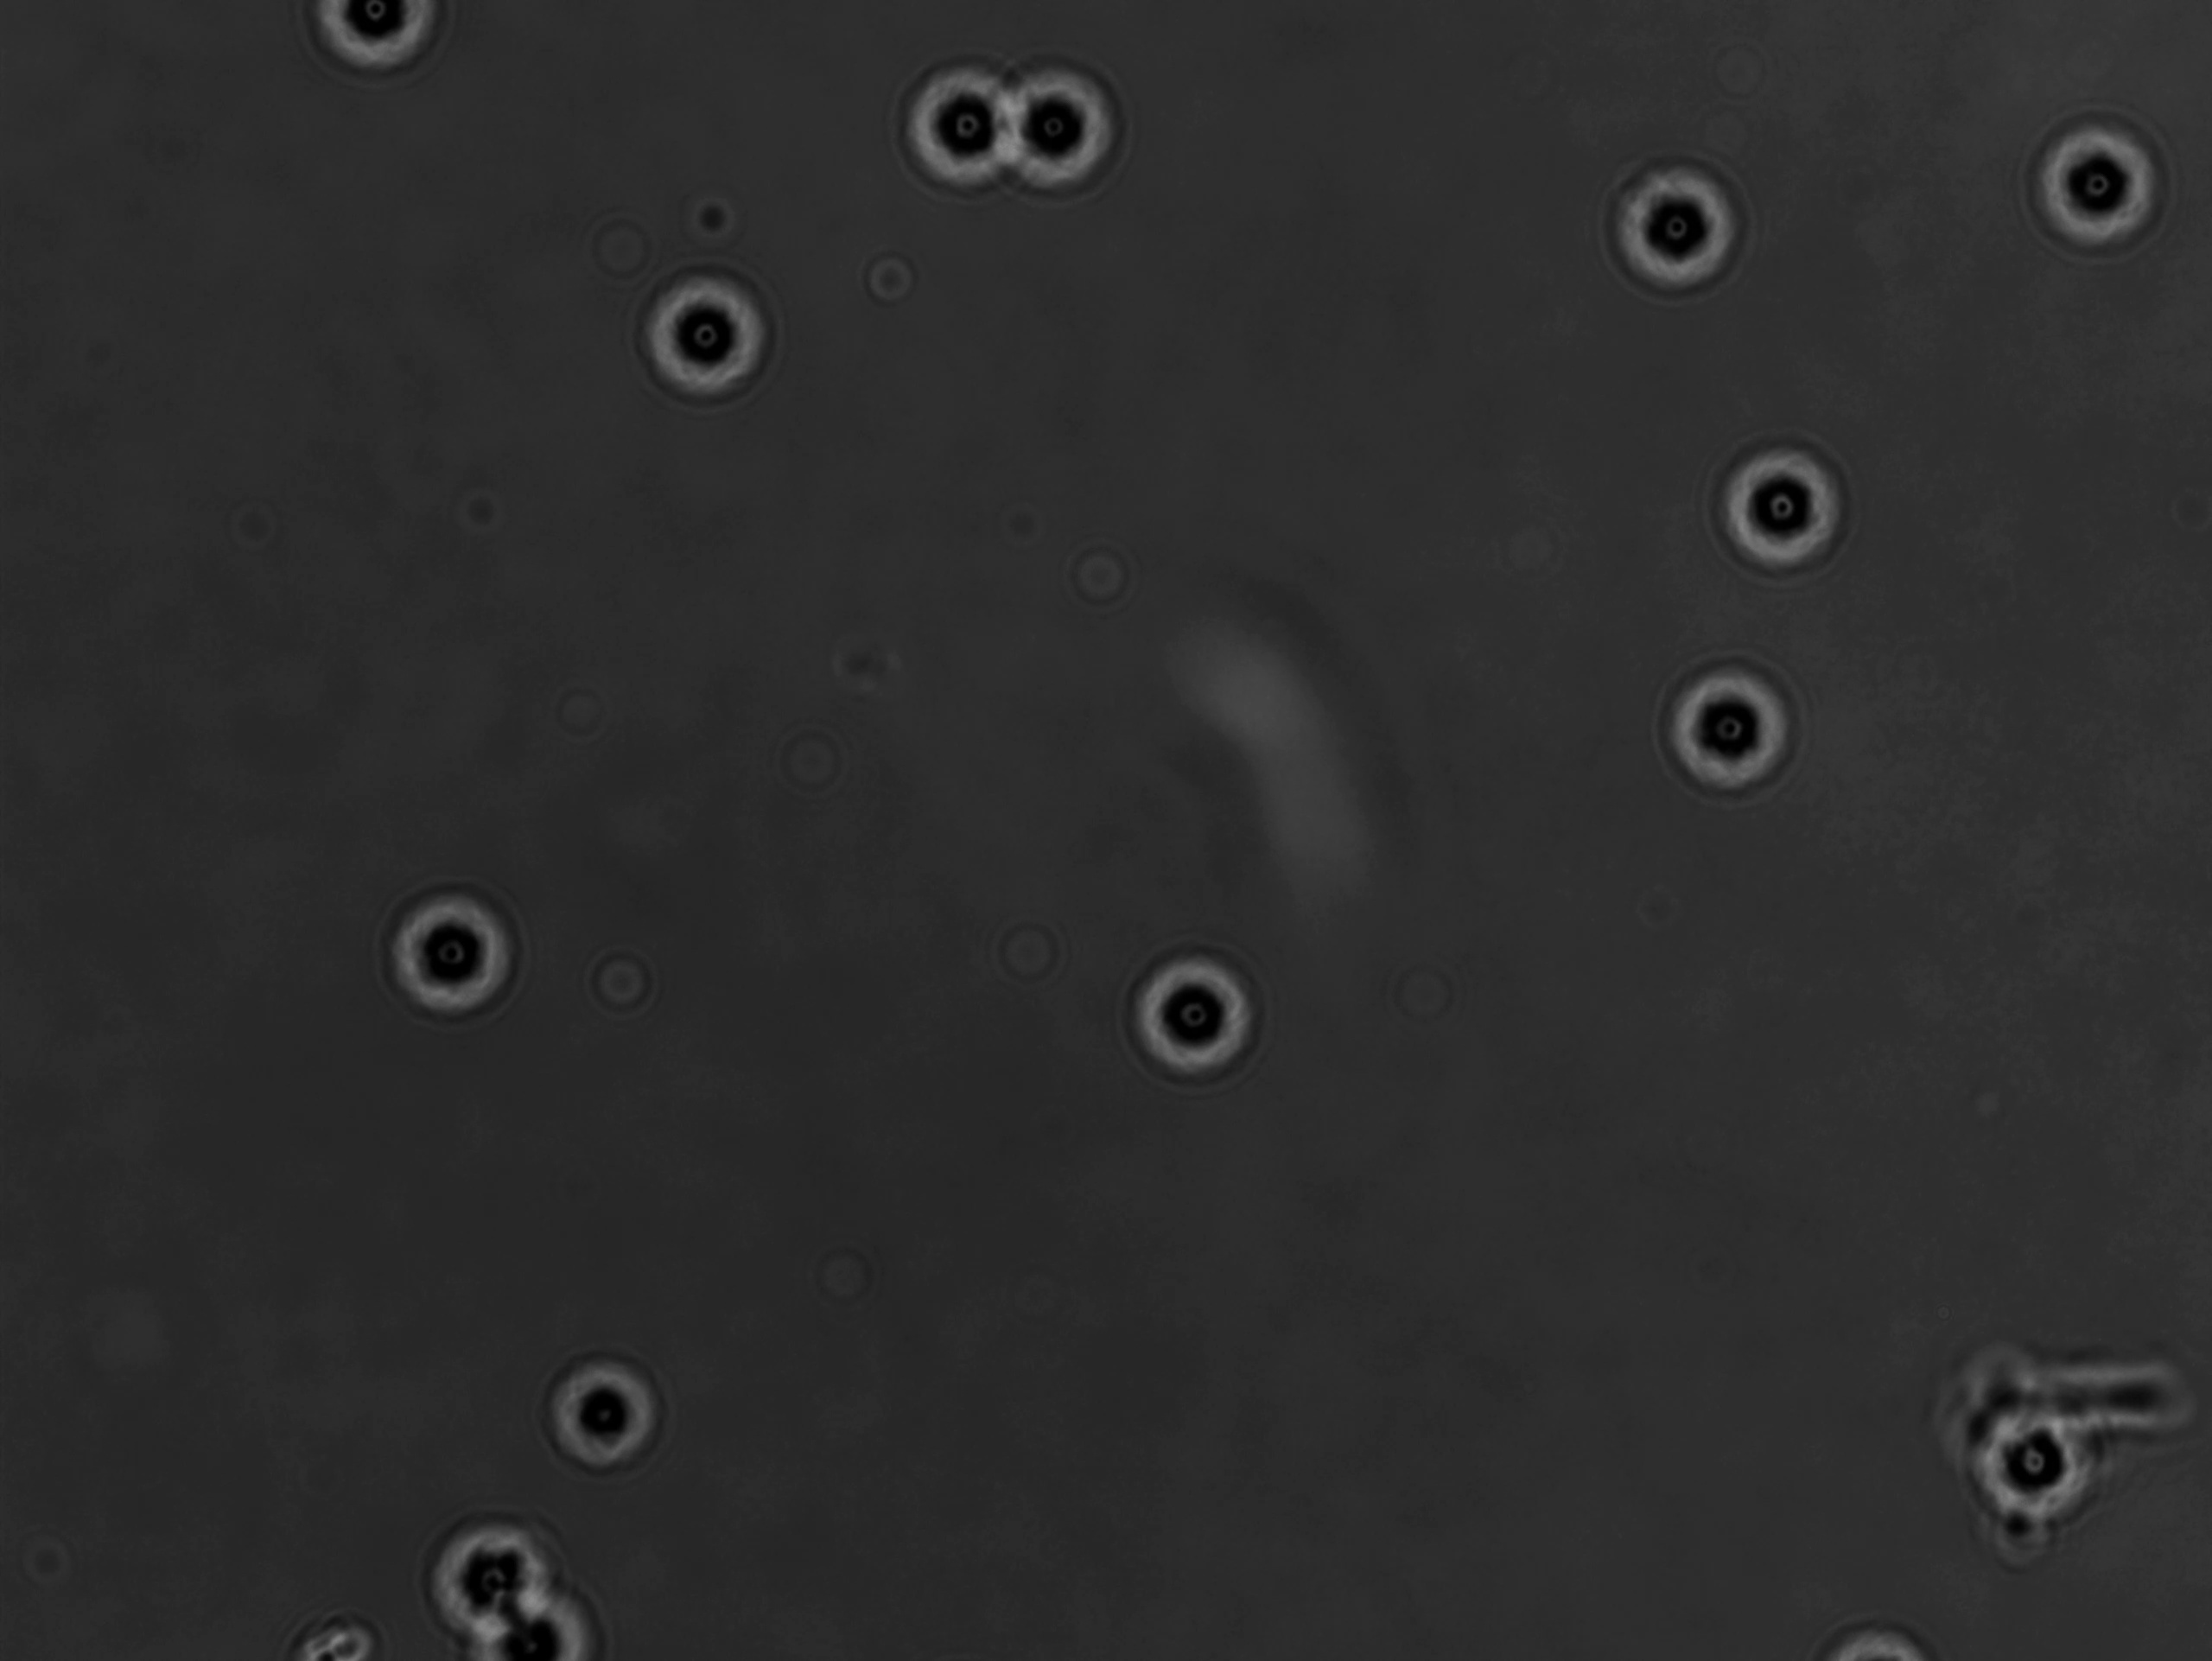depth:-20: (1579, 143, 1764, 319), (2006, 96, 2195, 269), (1959, 1366, 2135, 1548), (1642, 632, 1818, 808), (1108, 926, 1291, 1094), (372, 865, 544, 1038), (886, 31, 1052, 211), (625, 244, 797, 414), (1696, 422, 1865, 588), (520, 1335, 689, 1488), (393, 1504, 562, 1654), (1000, 56, 1150, 213)
